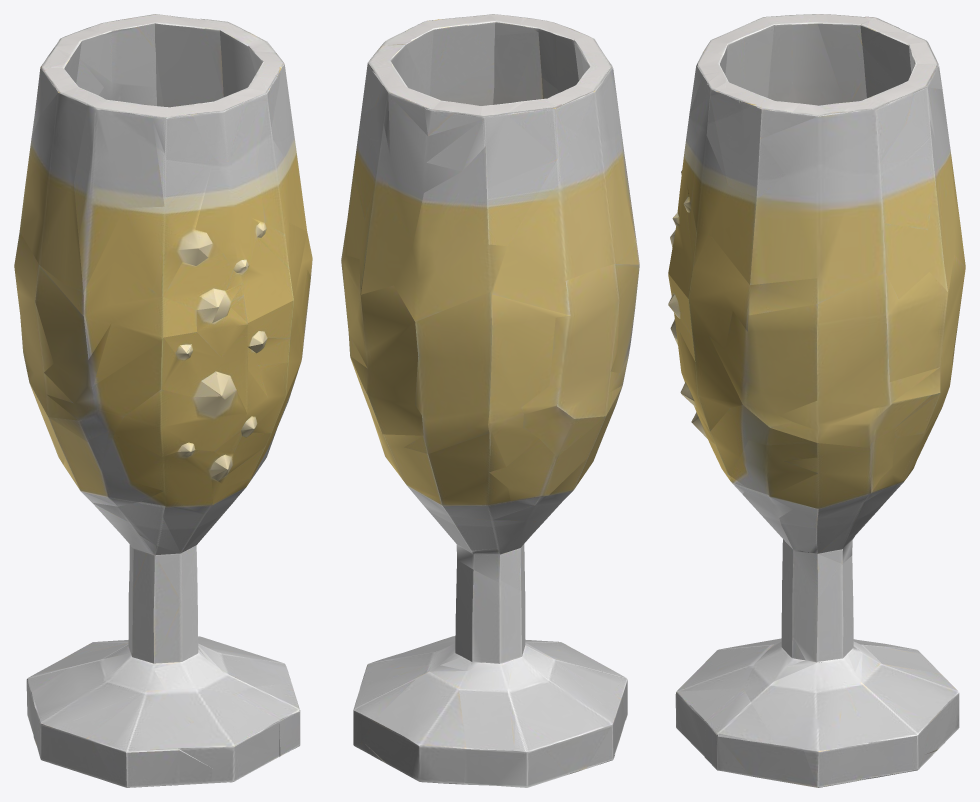
File: glass.glb
The picture shows the model from 3 angles, left to right: view 1: azimuth 30°, elevation 25°; view 2: azimuth 150°, elevation 25°; view 3: azimuth 270°, elevation 25°; orthographic projection.
Visible parts, largest first — view 1: Mesh_0; view 2: Mesh_0; view 3: Mesh_0.
Part boxes in pixels (box(x1,y1,x2,y2)): Mesh_0: box(14, 14, 312, 787); Mesh_0: box(341, 14, 639, 787); Mesh_0: box(668, 14, 965, 787).
Size of the model in its own units: 0.8073 by 2 by 0.81.
1 material, 1 textured.
